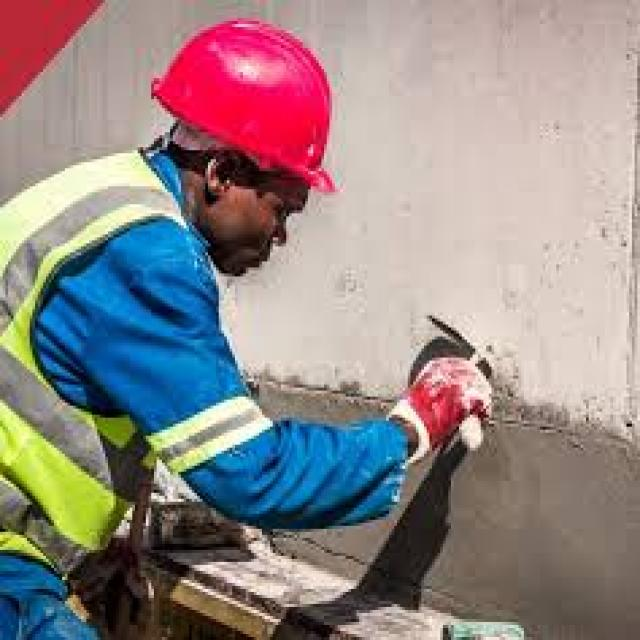Reflective-Jacket: (0, 141, 219, 607)
Safety-Helmet: (143, 6, 357, 198)
